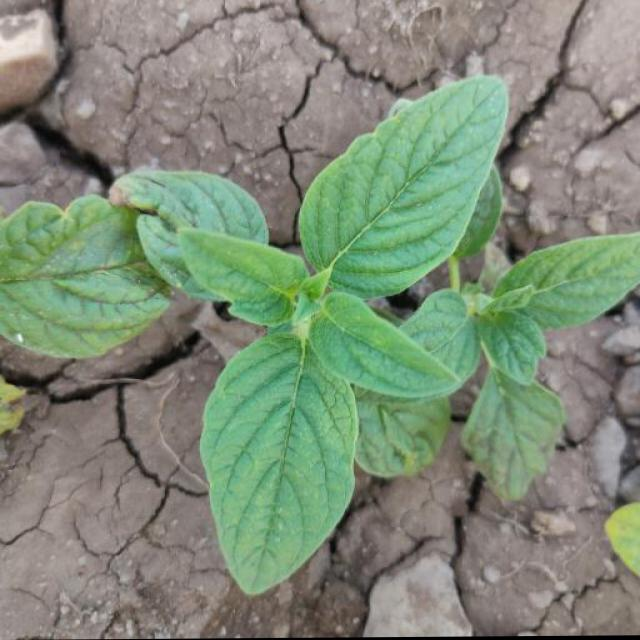crop: (167, 72, 640, 605)
